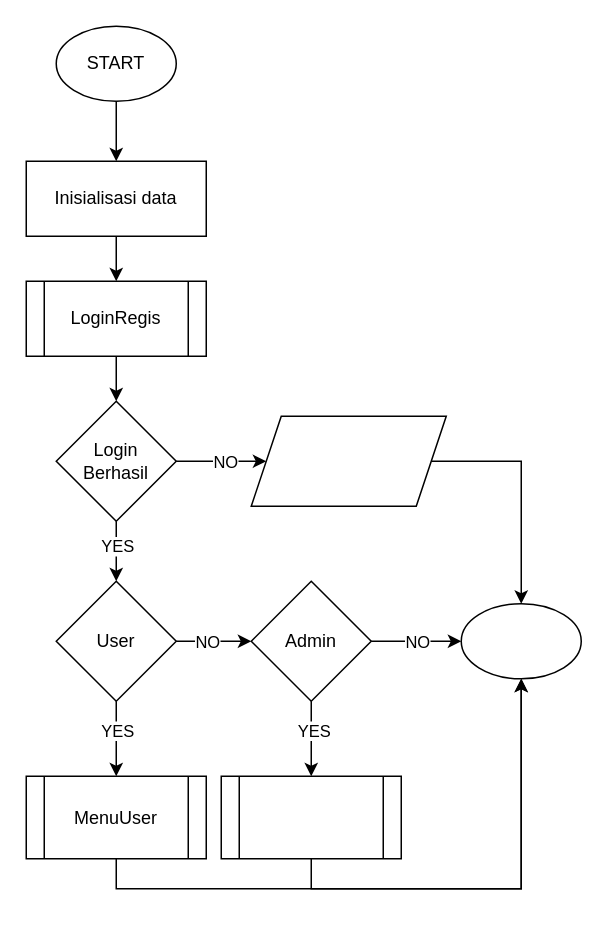
The diagram is 608 pixels wide and 927 high, and some of its shapes have lost their labels. The box of each missing label's shape, as (x1, y1, x2, y2) in pixels:
END: (460, 602, 581, 679)
MenuAdmin: (220, 775, 401, 859)
OUTPUT "Program berhenti": (250, 415, 446, 506)
